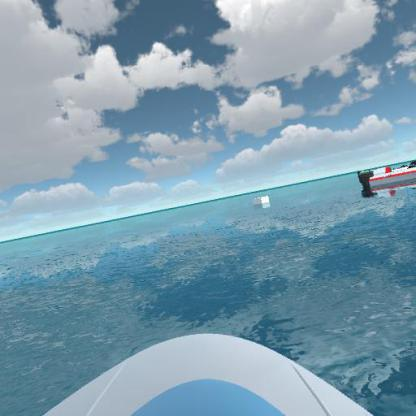usv0: (353, 164, 380, 180)
usv3: (360, 161, 415, 201)
